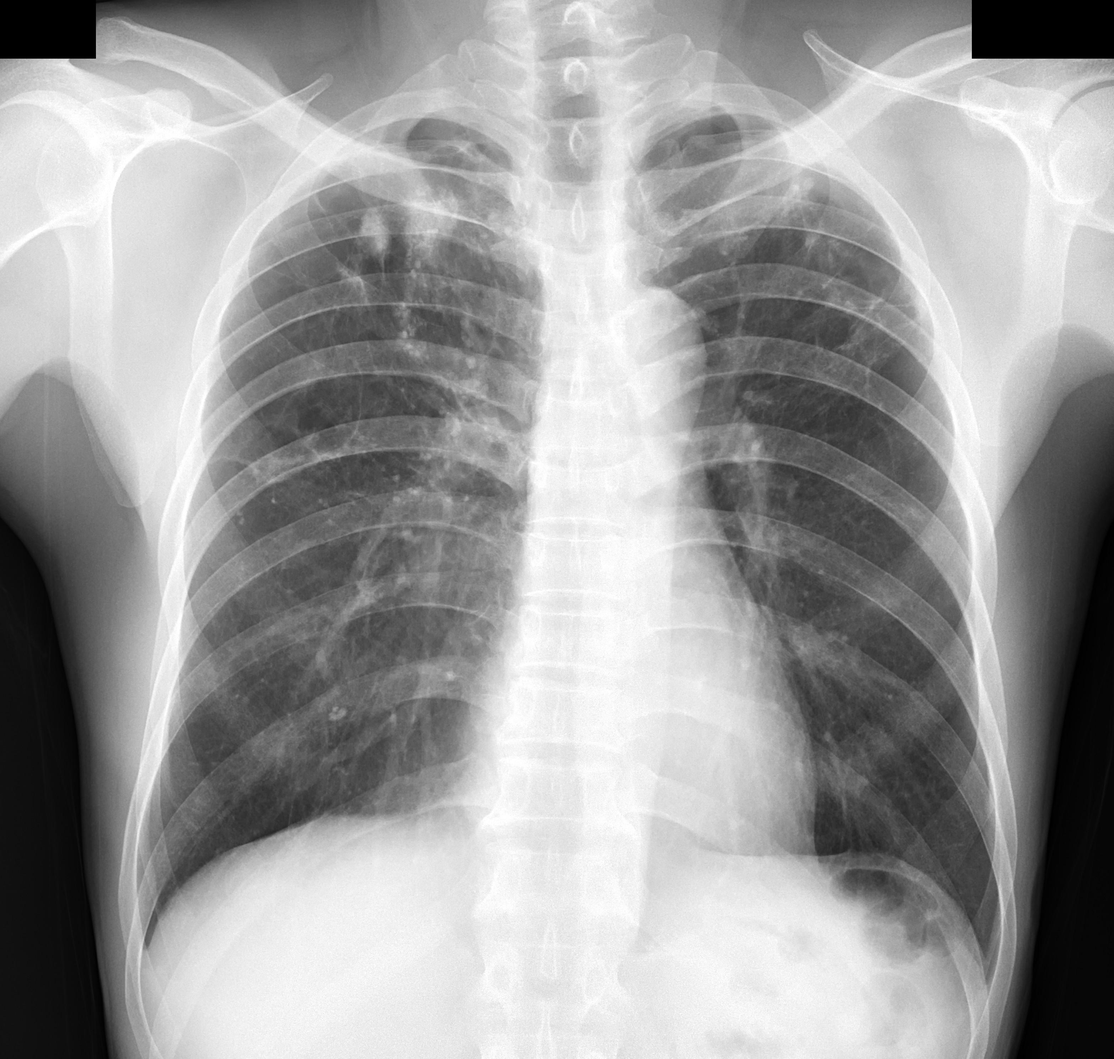Pulmonary fibrosis: (319, 155, 491, 389), (778, 163, 931, 335), (199, 443, 354, 481)
